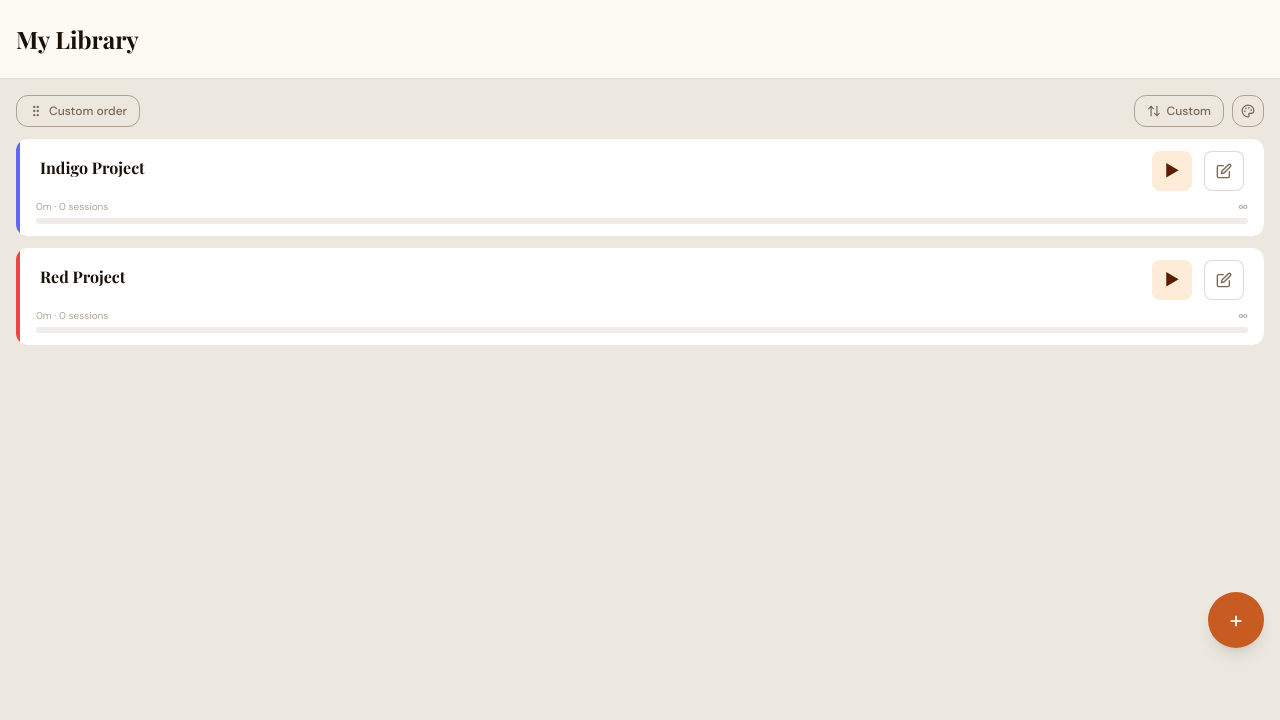
ProjectLibrary color filter › selecting All resets filter
Click the button named "Filter by color": (1248, 111) 1232,95 -> 1264,127
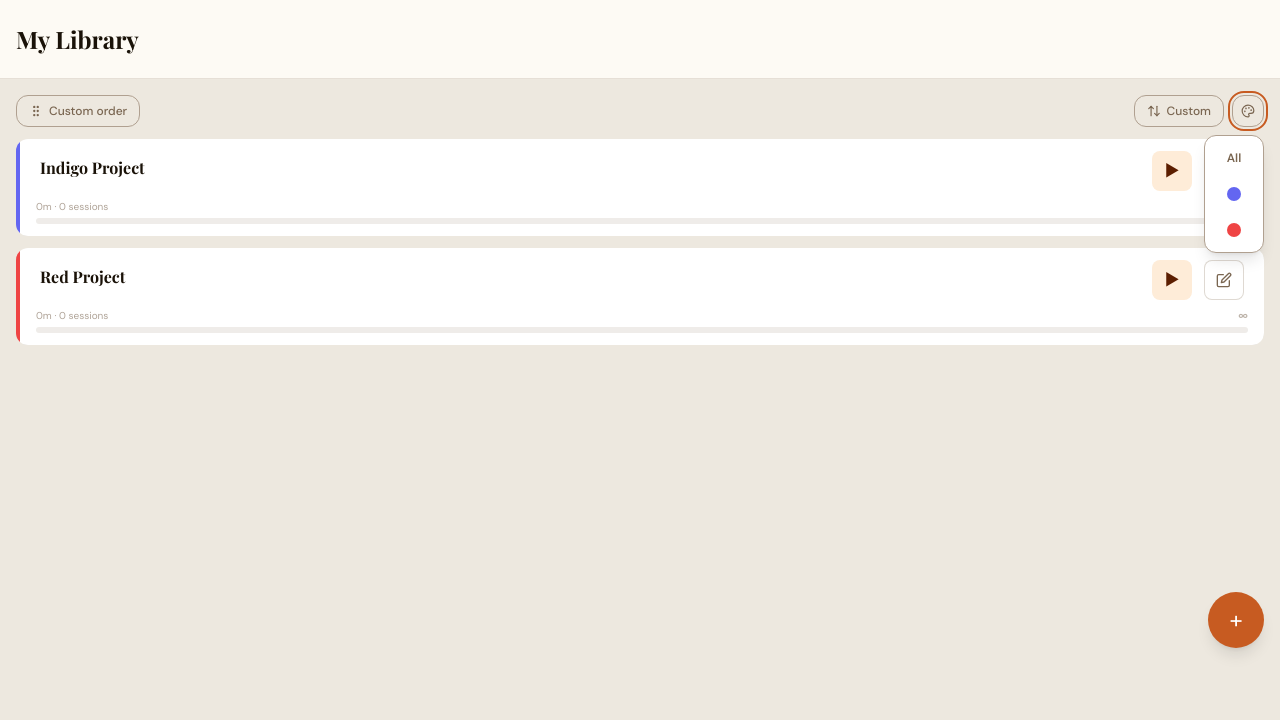
Click the button named "Filter by indigo": (1234, 194) 1205,176 -> 1263,212
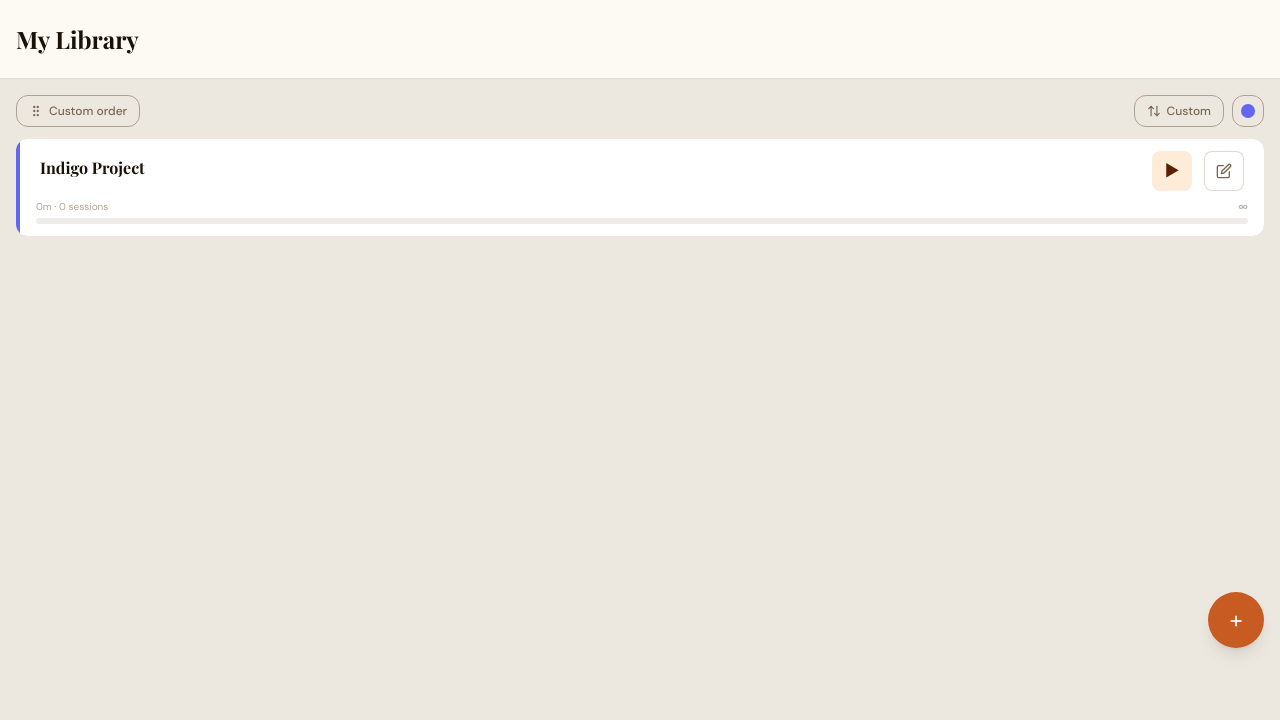
Click the button named "Filter by color": (1248, 111) 1232,95 -> 1264,127
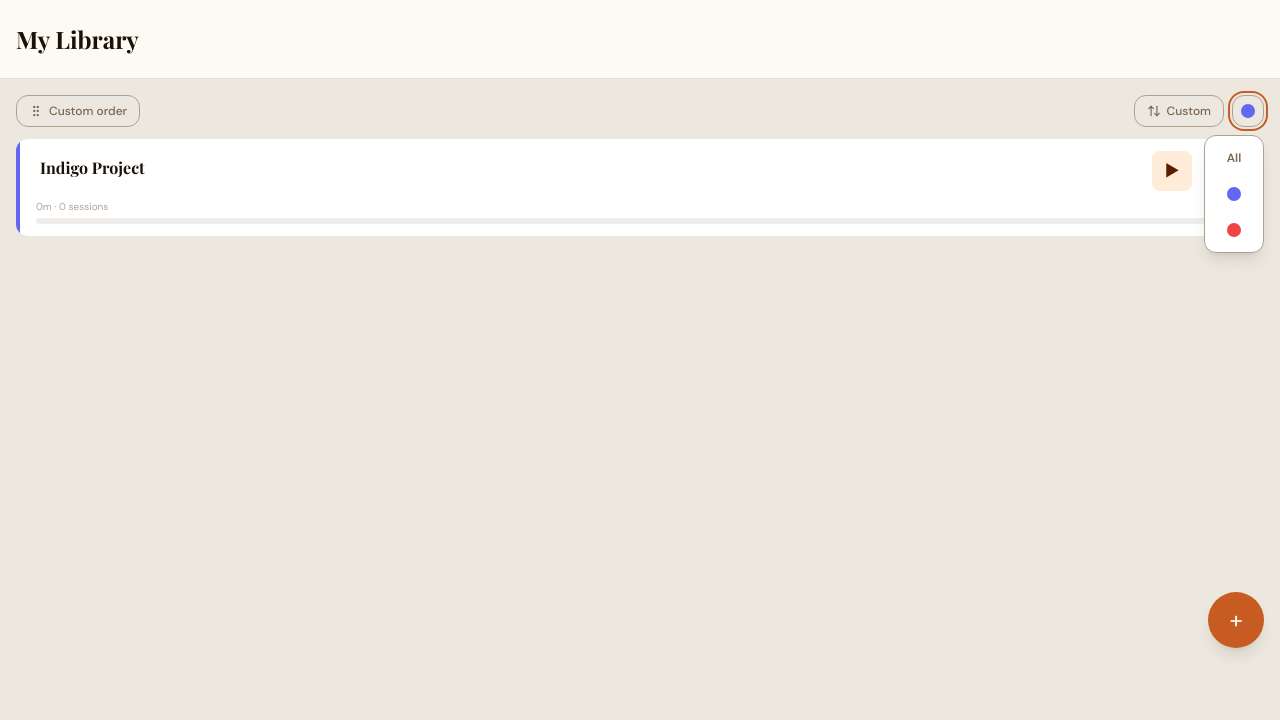
Click the button "All": (1234, 158) 1205,140 -> 1263,176
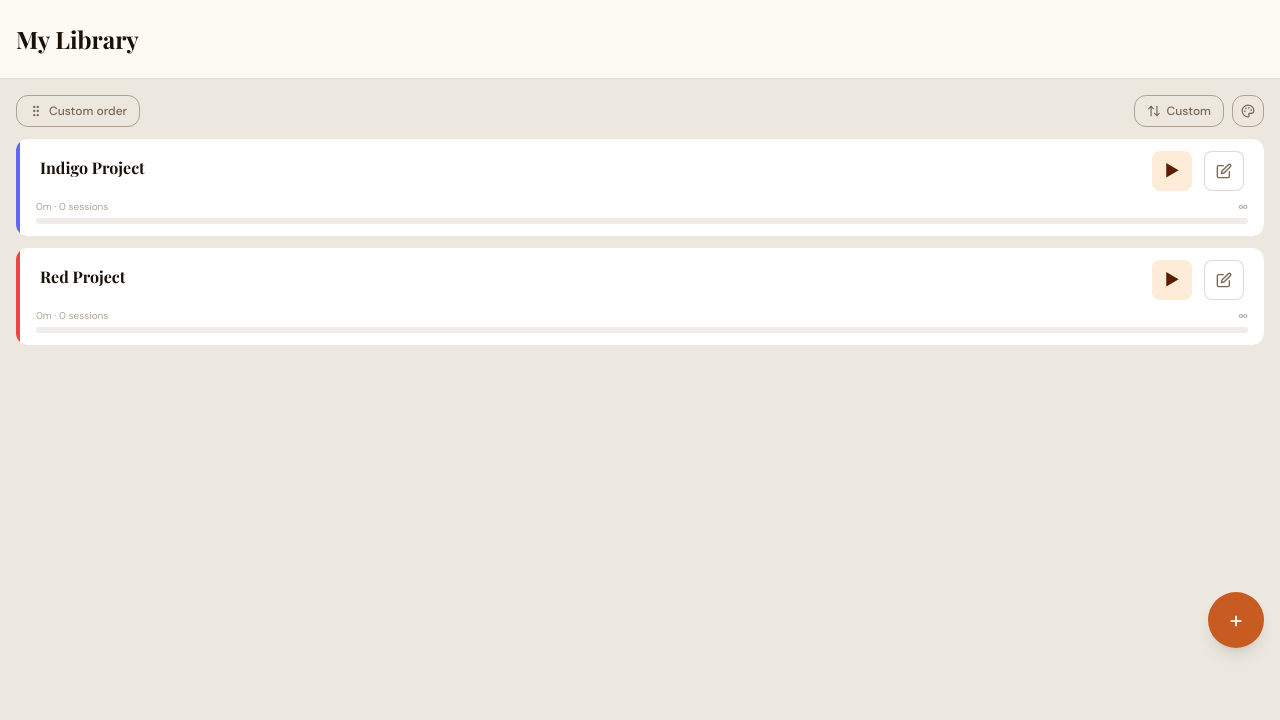
Expected: the text "Indigo Project" is shown, 40,157 -> 145,178
Expected: the text "Red Project" is shown, 40,266 -> 125,287
